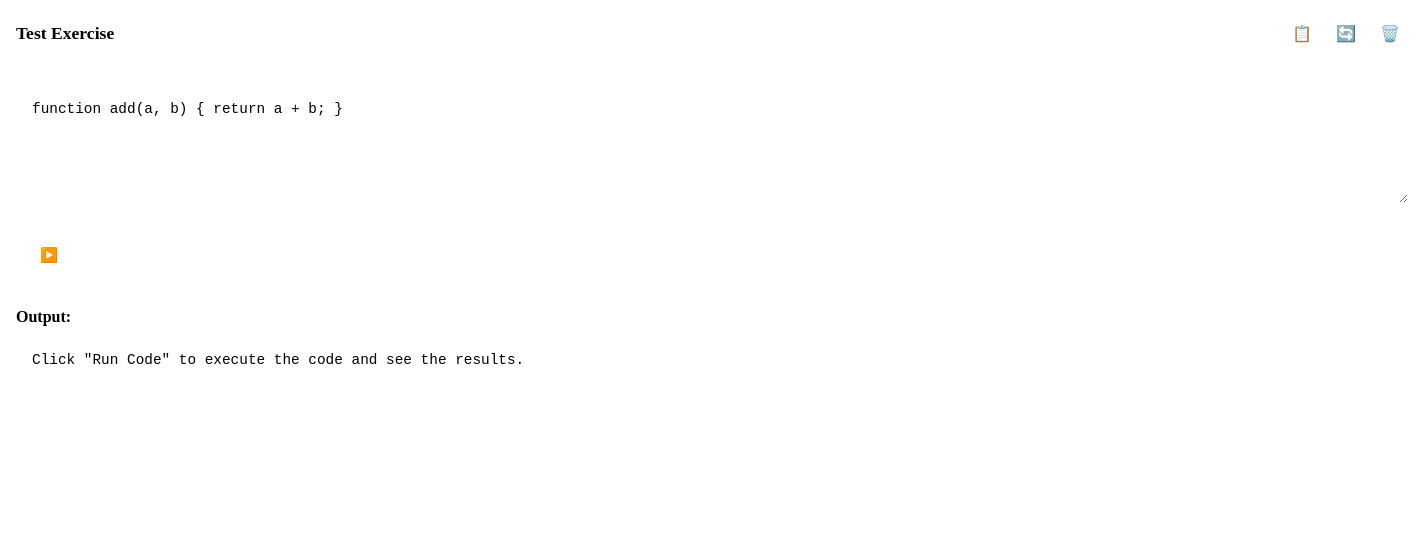
it: CodeRunner › clears output when clear button is clicked
This screenshot has width=1425, height=536.
Click the button "▶️ Run Code" at (85, 256), box [16, 235, 154, 276]
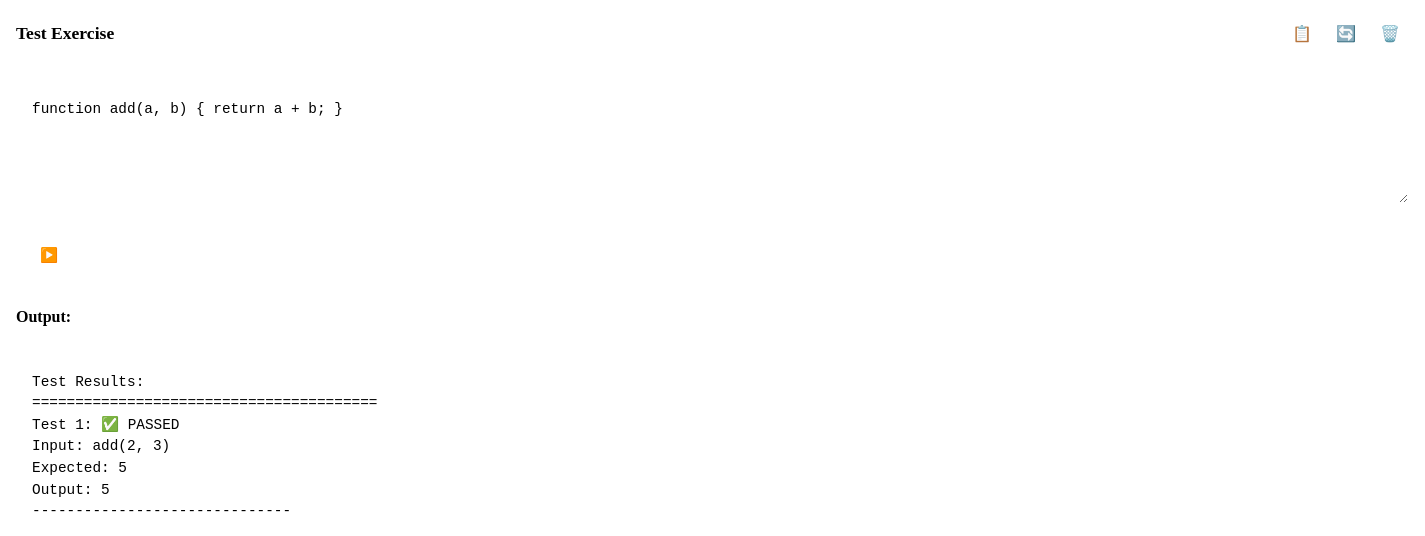
Check: the text "PASSED" is shown, box [32, 374, 377, 519]
Click the button titled "Clear output" at (1390, 34), box [1372, 16, 1408, 51]
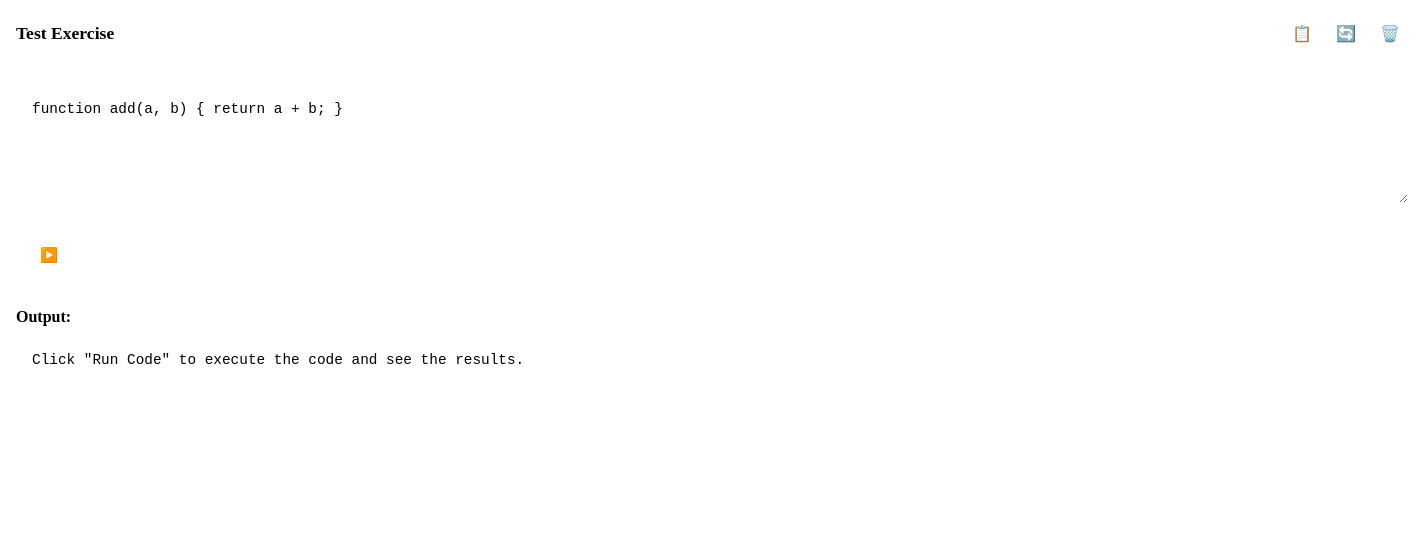
Check: the text "Click \"Run Code\" to execute the code and see the results." is shown, box [32, 352, 524, 368]
